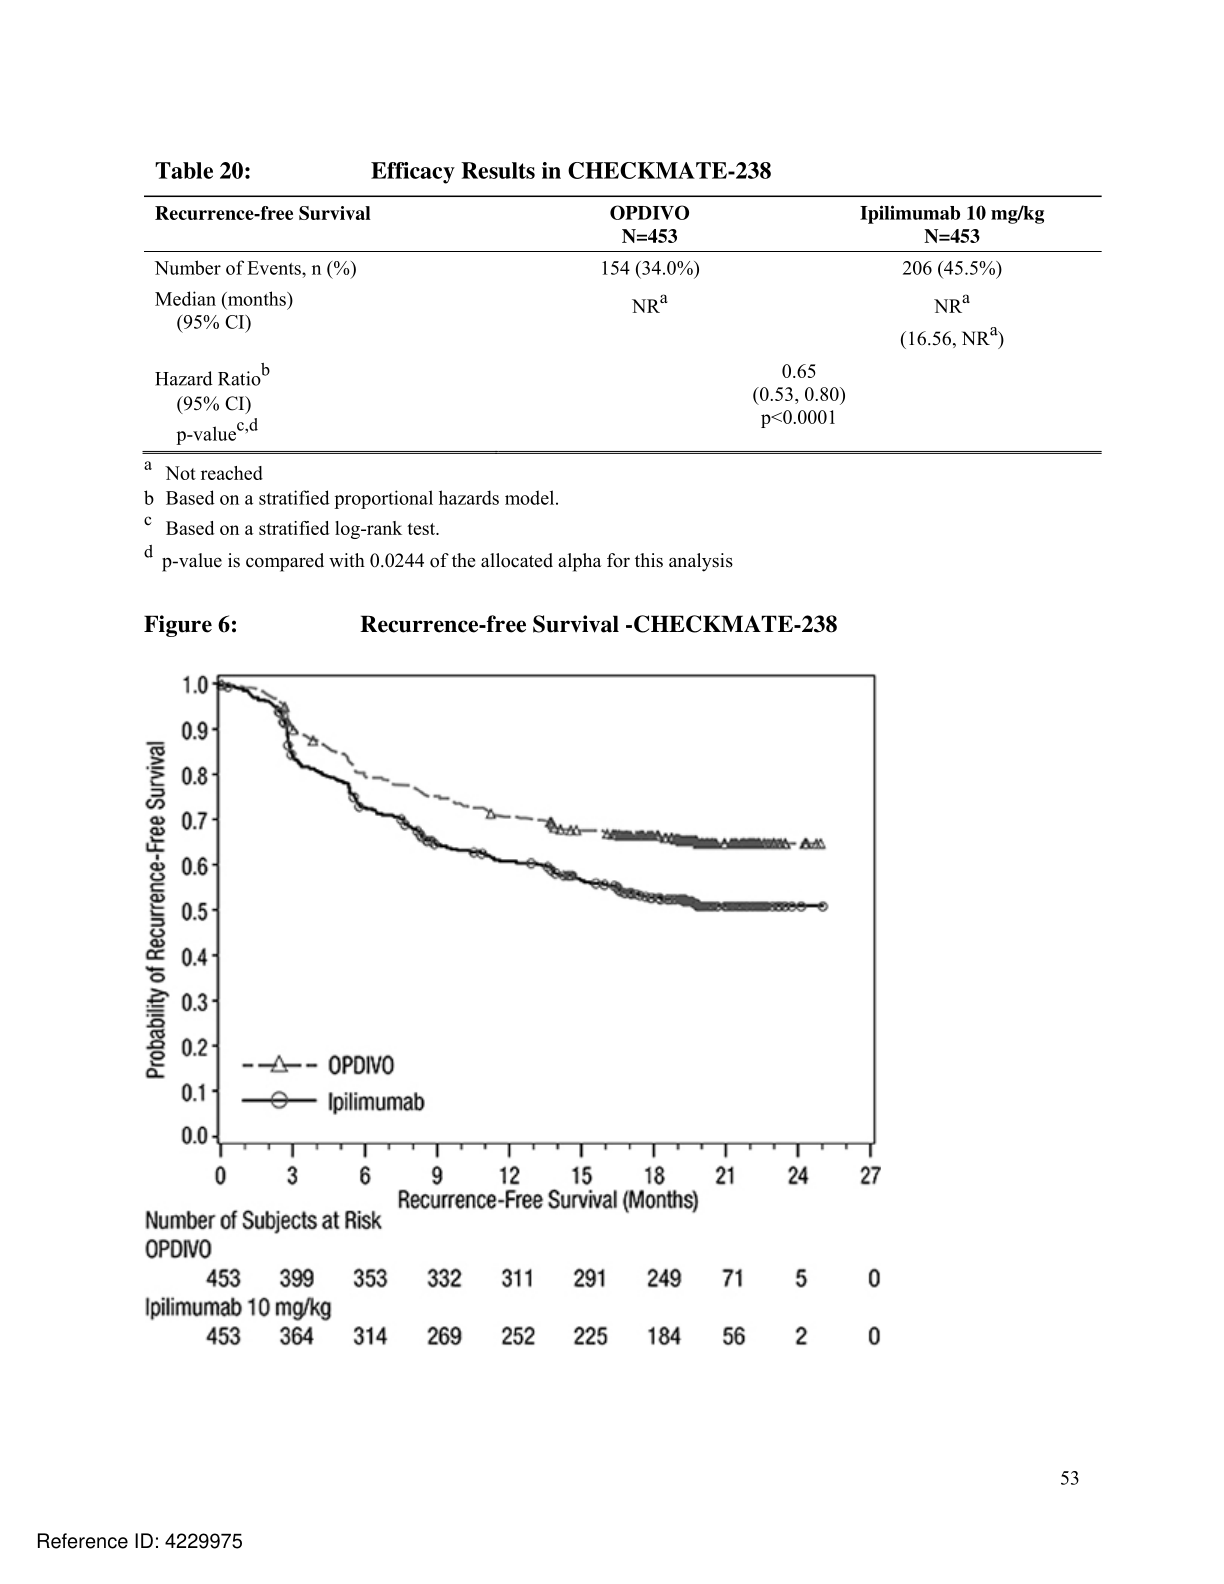nolines: (141, 1236, 882, 1349)
partial_lined: (141, 193, 1102, 455)
